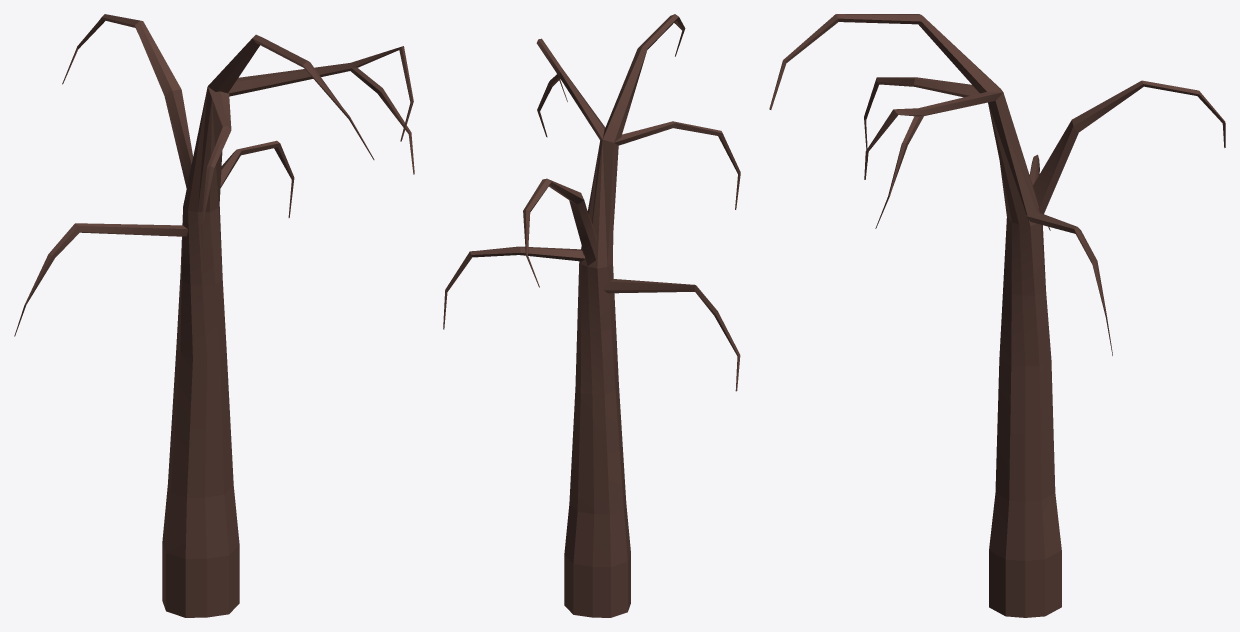
The model's file is tree1-flat.glb.
3 views of the same model, side by side, from view 1: azimuth 30°, elevation 25°; view 2: azimuth 150°, elevation 25°; view 3: azimuth 270°, elevation 25° (orthographic). The views are drawn at different scales.
Parts seen in each view (by area): view 1: tree_1; view 2: tree_1; view 3: tree_1.
Boxes of the visible parts, x1,y1,x2,y2 form: tree_1: (14,14,414,617); tree_1: (443,14,740,617); tree_1: (769,14,1225,617).
Size of what is drawn, in the model's own units: 9.51 by 17.67 by 12.33.
1 material, 1 textured.
